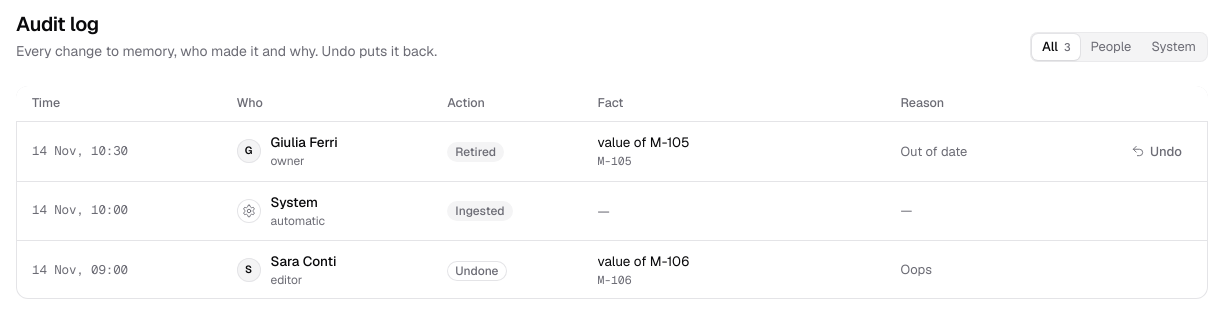
Test: Audit › filters people and system events with the tabs
The image size is (1227, 316).
expect the text "Out of date" is shown: met, box 888,122 -> 1041,182
Click the tab "People" at (1111, 47), box 1080,34 -> 1141,60
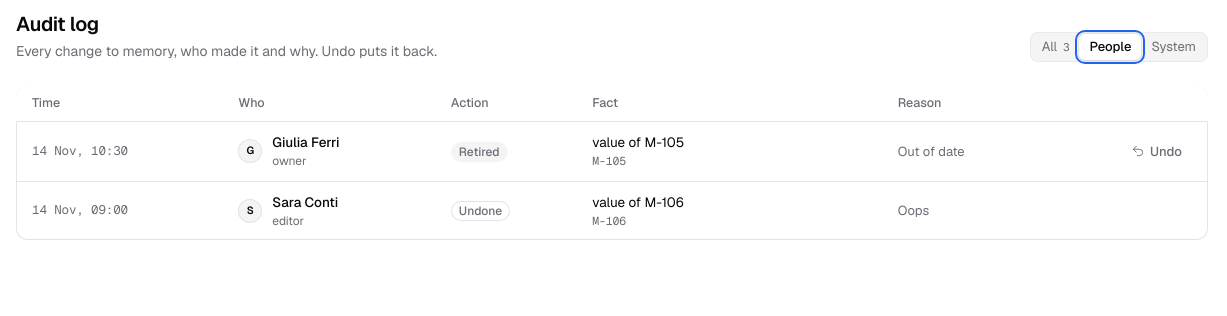
expect the text "Out of date" is shown: met, box 886,122 -> 1040,182
expect the text "Ingested" is gone: met
Click the tab "System" at (1174, 47), box 1141,34 -> 1206,60
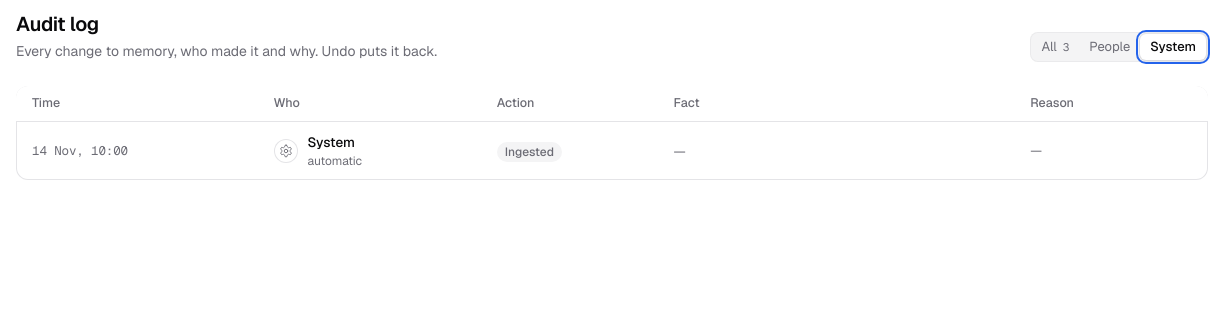
expect the text "Ingested" is shown: met, box 497,142 -> 562,162
expect the text "Out of date" is gone: met
